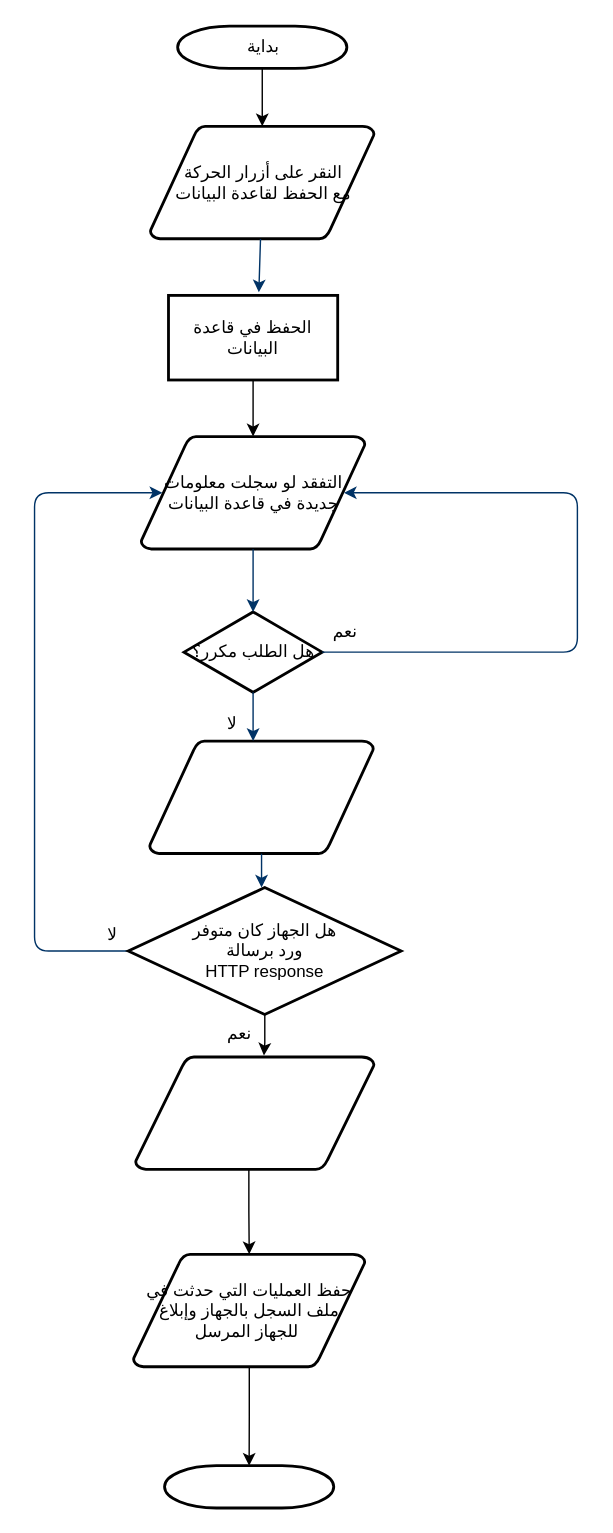
Some shapes in this 613 by 1533 pixel diagram are drawn without their labels. The shapes that lost their labels are listed below. From the top down, each one's box as (x1, y1, x2, y2) in pixels, then its label:
(147, 739, 374, 854): إرسال الطلب في HTTP request* إلى جهاز raspberry pi
(133, 1055, 375, 1170): يبدأ في توزيع الطلب وتجزئته للمحركات التي تغيرت حركتها مع اتجاه الحركة
(162, 1464, 334, 1509): توقف
